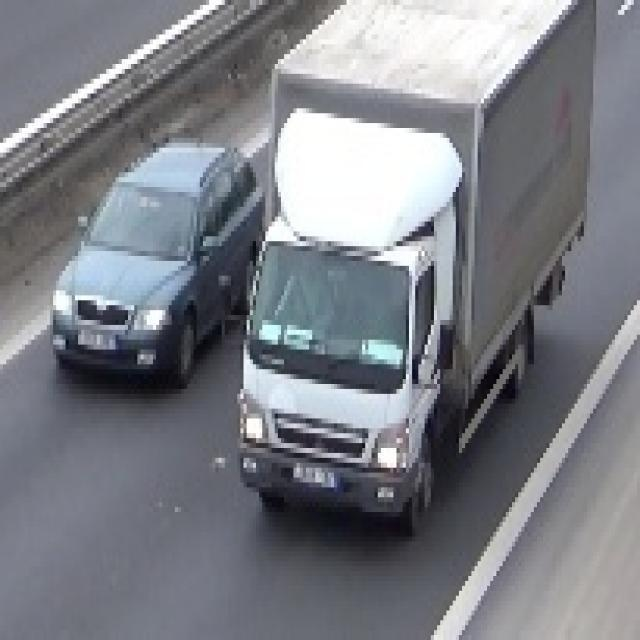Car: (56, 132, 272, 388)
Truck: (231, 0, 593, 512)
